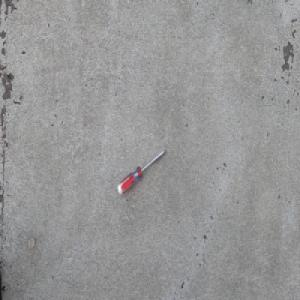Screwdriver: (117, 148, 167, 195)
